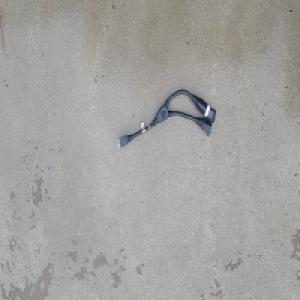Wire: (115, 87, 216, 149)
